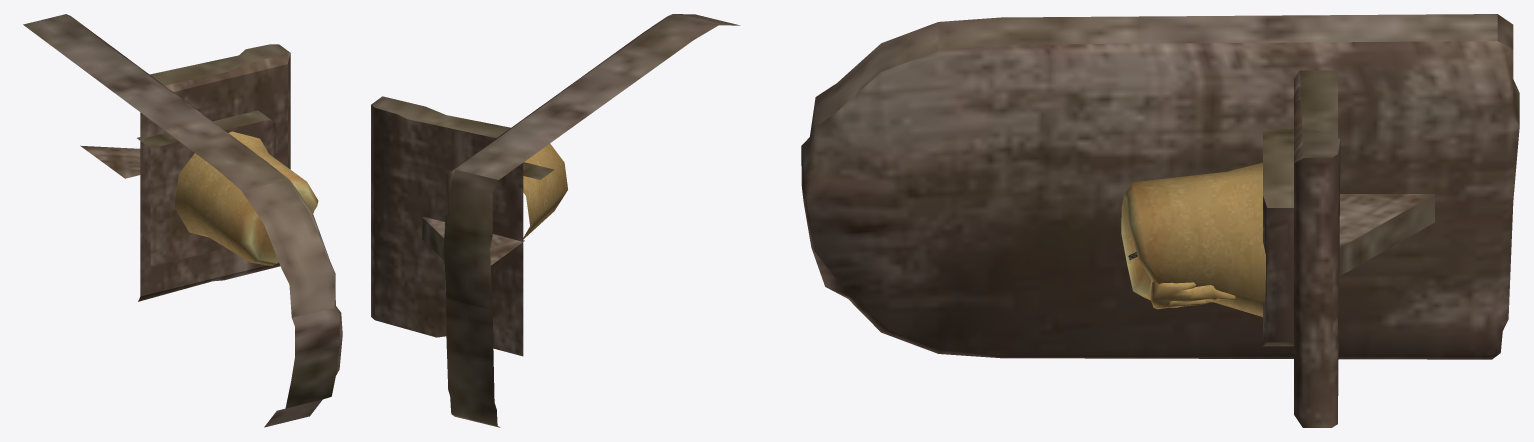
Rendered from VIK_PRO_Candle_Wall_Wood_01A_LOD0-transformed.glb.
3 renders of one model, left to right at view 1: azimuth 30°, elevation 25°; view 2: azimuth 150°, elevation 25°; view 3: azimuth 270°, elevation 25°, orthographic. The views are drawn at different scales.
Parts seen in each view (by area): view 1: VIK_PRO_Candle_Wall_Wood_01A_LOD0; view 2: VIK_PRO_Candle_Wall_Wood_01A_LOD0; view 3: VIK_PRO_Candle_Wall_Wood_01A_LOD0.
Boxes of the visible parts, bbox=[...] form: VIK_PRO_Candle_Wall_Wood_01A_LOD0: bbox=[23, 14, 342, 427]; VIK_PRO_Candle_Wall_Wood_01A_LOD0: bbox=[371, 14, 740, 427]; VIK_PRO_Candle_Wall_Wood_01A_LOD0: bbox=[801, 14, 1519, 427].
Size of the model in its own units: 0.00175 by 0.00217 by 0.00445.
2 materials, 2 textured.
